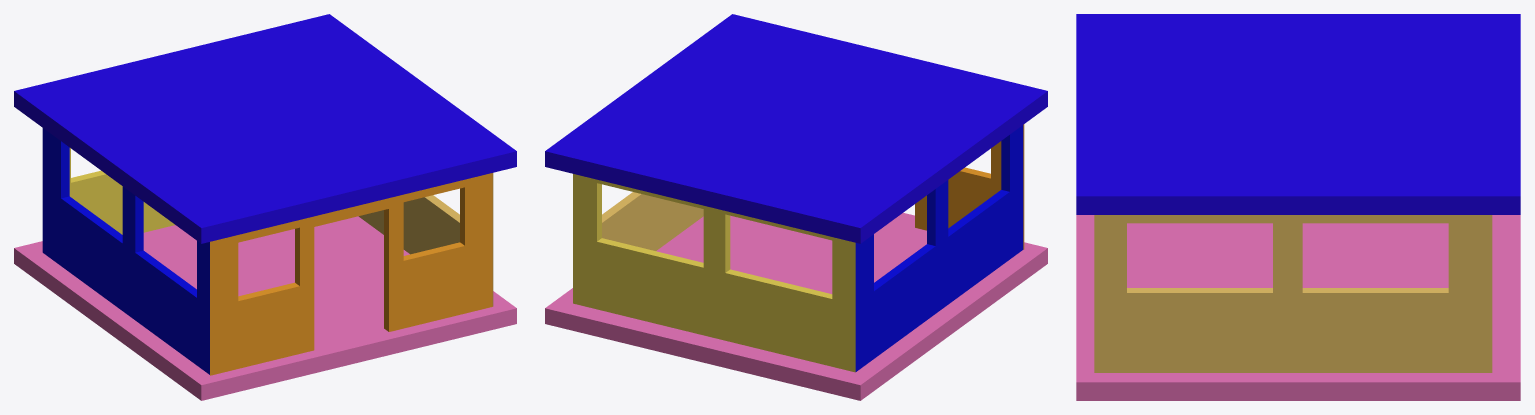
The model's file is securityBoxOneUCX.fbx.
The picture shows the model from 3 angles, left to right: view 1: azimuth 30°, elevation 25°; view 2: azimuth 150°, elevation 25°; view 3: azimuth 270°, elevation 25°; orthographic projection. The views are drawn at different scales.
Visible parts, largest first — view 1: box; view 2: box; view 3: box.
Part boxes in pixels (x1=…): box: x1=14, y1=14, x2=516, y2=400; box: x1=545, y1=14, x2=1047, y2=400; box: x1=1076, y1=14, x2=1520, y2=400.
Size of what is drawn, in the model's own units: 535 by 280 by 551.
